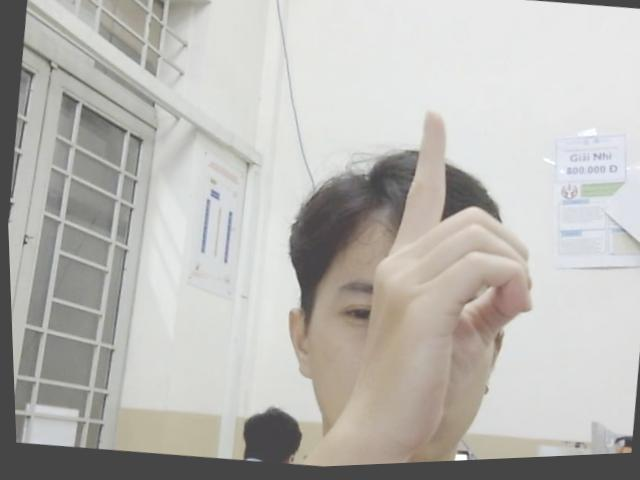D: (335, 101, 558, 462)
